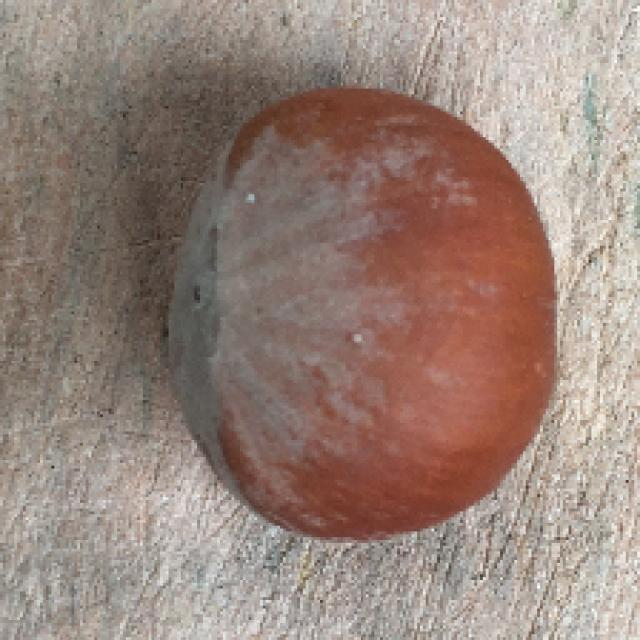hazelnut: (156, 85, 566, 549)
